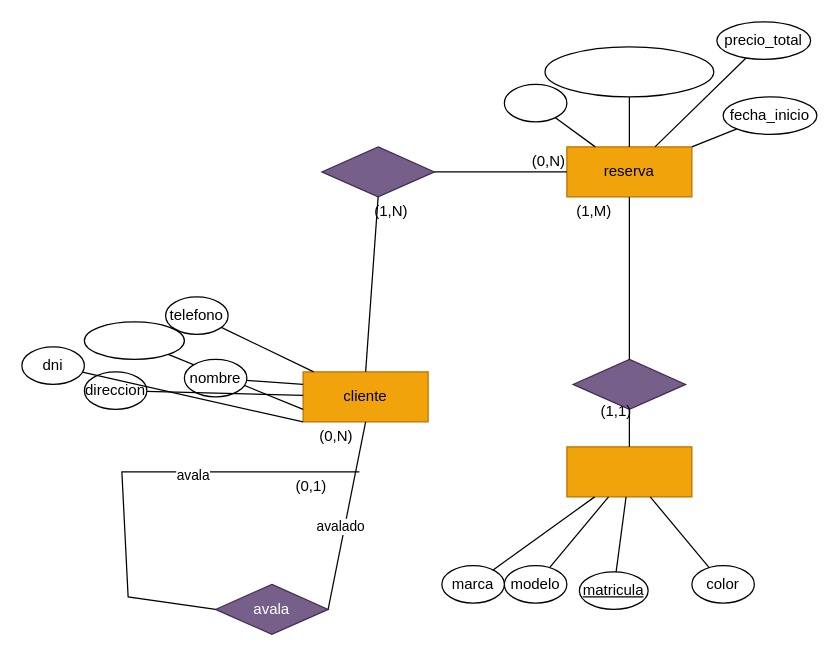
This 839x656 diagram has some shape labels left out. Each missing label, with the box of its shape:
coche: (566, 446, 692, 497)
Codigocliente: (83, 321, 184, 359)
finfecha: (503, 83, 567, 122)
incluye: (572, 358, 686, 409)
numero_identificacion: (544, 46, 714, 97)
realiza: (321, 146, 434, 197)
